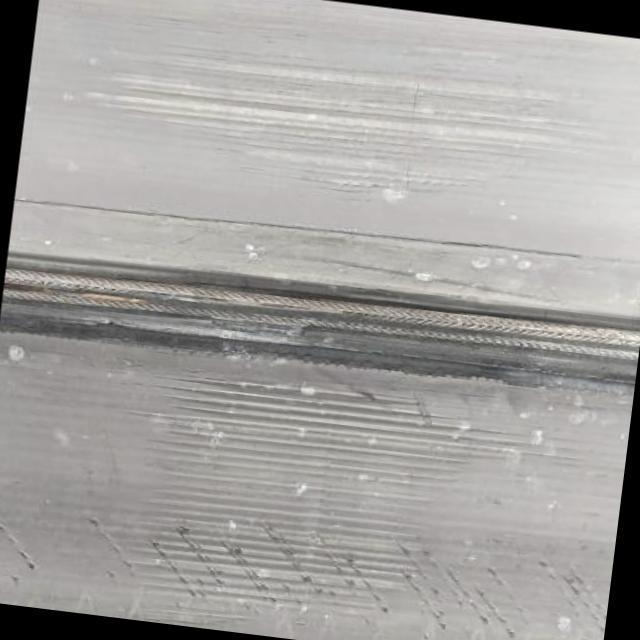Tear: (0, 247, 639, 401)
Wear: (20, 359, 598, 638), (66, 7, 600, 210)
